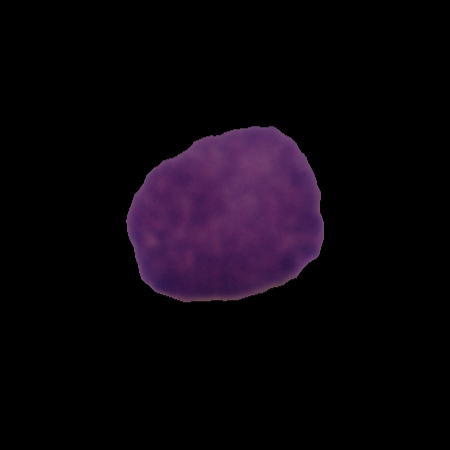HEM: (122, 120, 328, 306)
